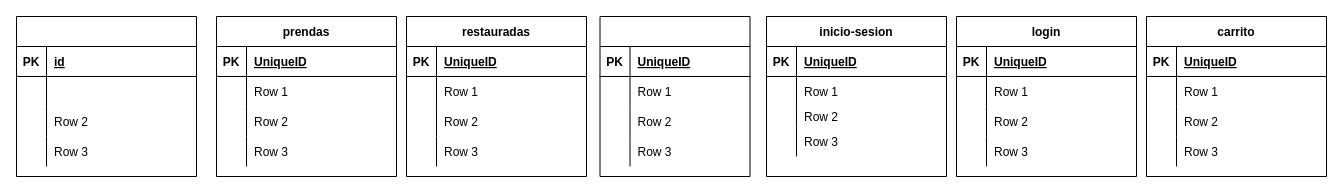
This 1343x193 diagram has some shape labels left out. The shapes that lost their labels are listed below. From the top down, each one's box as (x1, y1, x2, y2) in pixels, then its label:
(16, 16, 196, 176): VerdeUva-Home
(599, 16, 750, 176): Magazine-Eco
